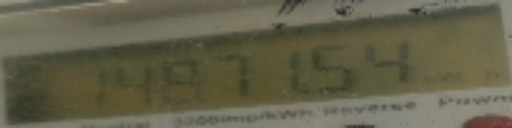1: (92, 61, 112, 111), (285, 44, 300, 102)
4: (363, 36, 415, 91), (111, 55, 159, 109)
5: (307, 38, 360, 99)
7: (207, 47, 256, 104)
9: (161, 57, 201, 106)
d: (300, 85, 315, 101)
